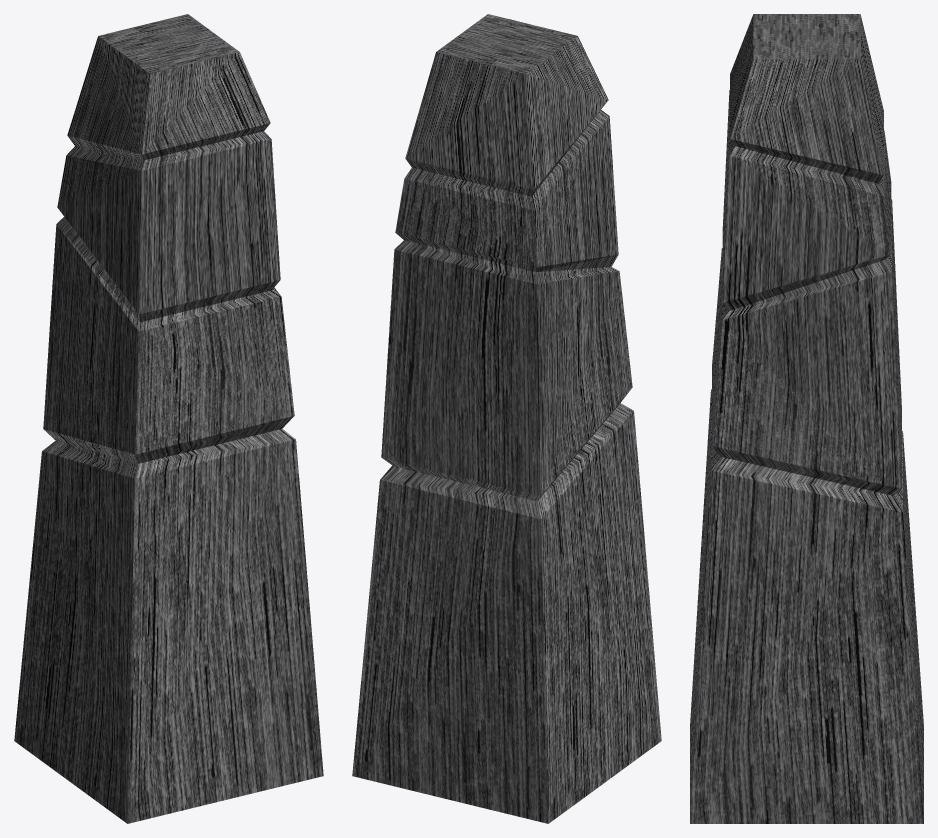
File: kolumna_3.fbx
3 renders of one model, left to right at view 1: azimuth 30°, elevation 25°; view 2: azimuth 150°, elevation 25°; view 3: azimuth 270°, elevation 25°, orthographic. The views are drawn at different scales.
Visible parts, largest first — view 1: Cube.001; view 2: Cube.001; view 3: Cube.001.
Part boxes in pixels (<box>): Cube.001: <box>14,14,323,823</box>; Cube.001: <box>352,14,661,823</box>; Cube.001: <box>690,14,923,823</box>.
Bounding box in the file's own units: 200 × 696 × 200.
Materials: 1 (1 with a texture image).
